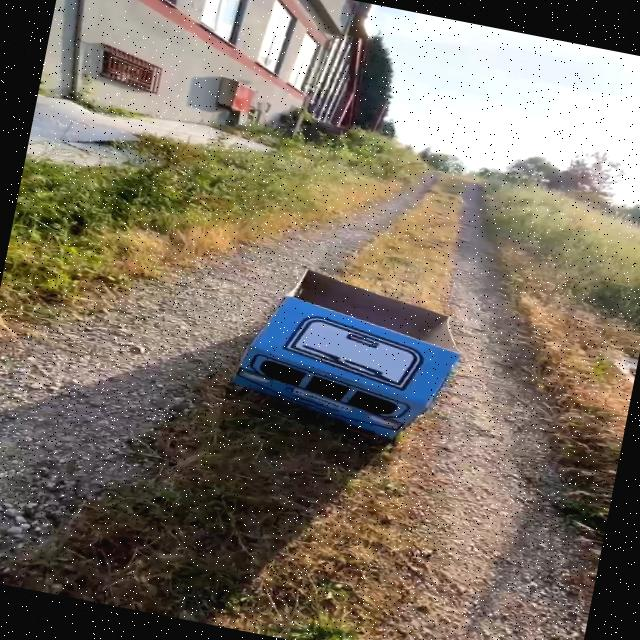blue_car: (180, 234, 509, 475)
